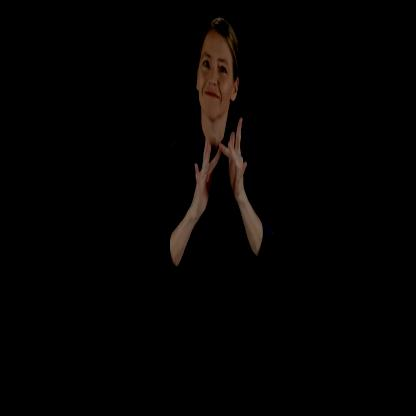Internet: (187, 111, 249, 222)
